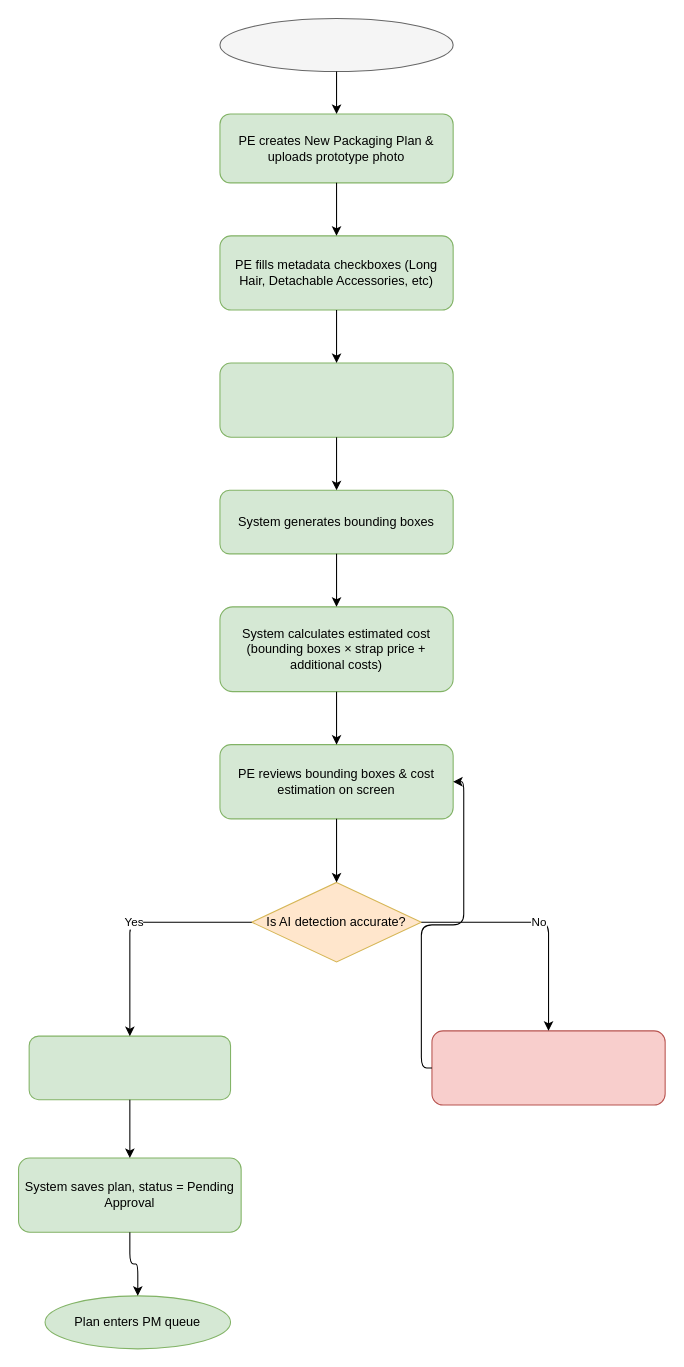
Some shapes in this 684 by 1367 pixel diagram are drawn without their labels. Here are the shapes that lost their labels. From the top down, the box of each, then its label:
(219, 17, 453, 72): PE starts a new plan
(219, 362, 453, 437): YOLO model detects 4 joint targets: Neck, Waist, Wrist, Ankle
(28, 1035, 231, 1100): PE clicks Submit
(431, 1030, 665, 1105): PE manually adjusts: add / delete / reposition boxes
